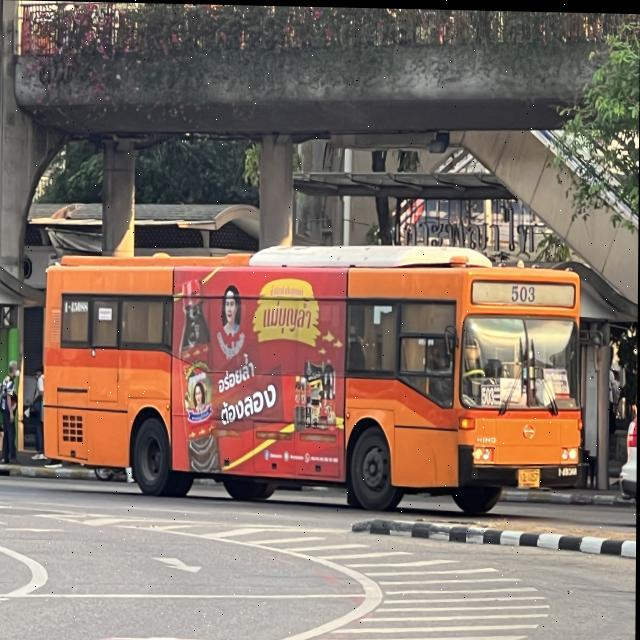BMTA-bus: (42, 244, 584, 514)
Bus Line Number: (507, 277, 540, 302)
Bus Side Number: (558, 461, 579, 478)
Destination Sign: (544, 364, 571, 396)
